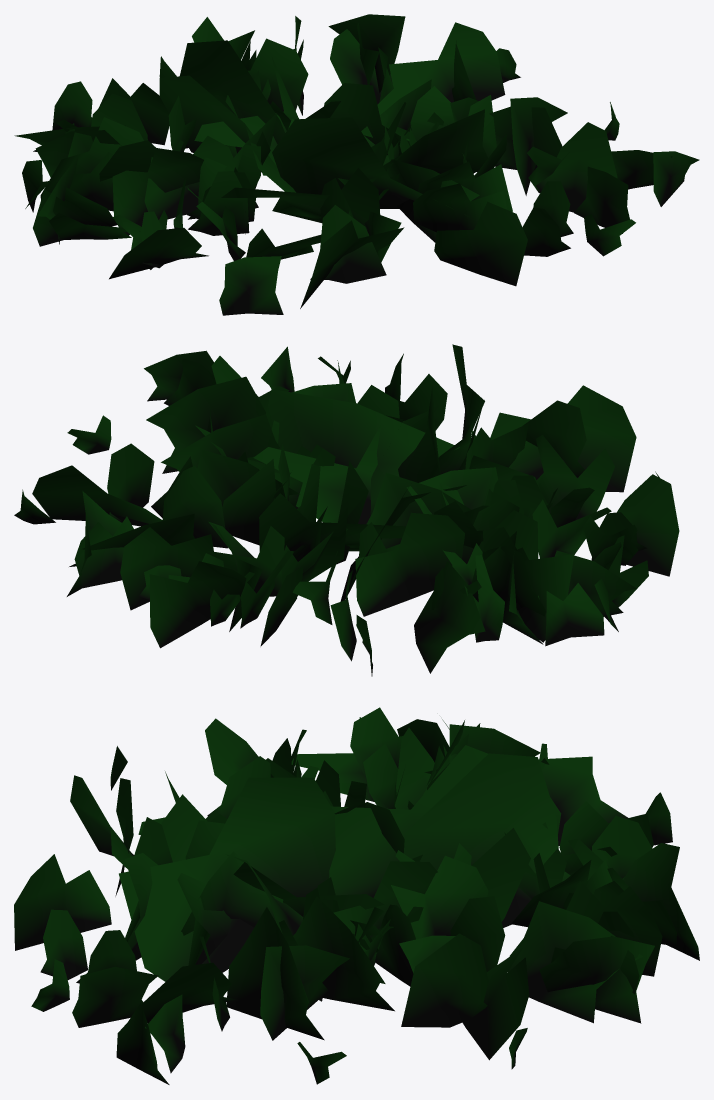
The model's file is FlowerGrassGCATA_A.fbx.
3 renders of one model, top to bottom at view 1: azimuth 30°, elevation 25°; view 2: azimuth 150°, elevation 25°; view 3: azimuth 270°, elevation 25°, orthographic. The views are drawn at different scales.
Parts seen in each view (by area): view 1: FGGCATAA_LOD0; view 2: FGGCATAA_LOD0; view 3: FGGCATAA_LOD0.
Part boxes in pixels (x1,y1,x2,y2): FGGCATAA_LOD0: [14, 14, 699, 315]; FGGCATAA_LOD0: [14, 344, 679, 676]; FGGCATAA_LOD0: [14, 707, 699, 1084].
Size of what is drawn, in the model's own units: 2.9 by 0.6544 by 2.58.
